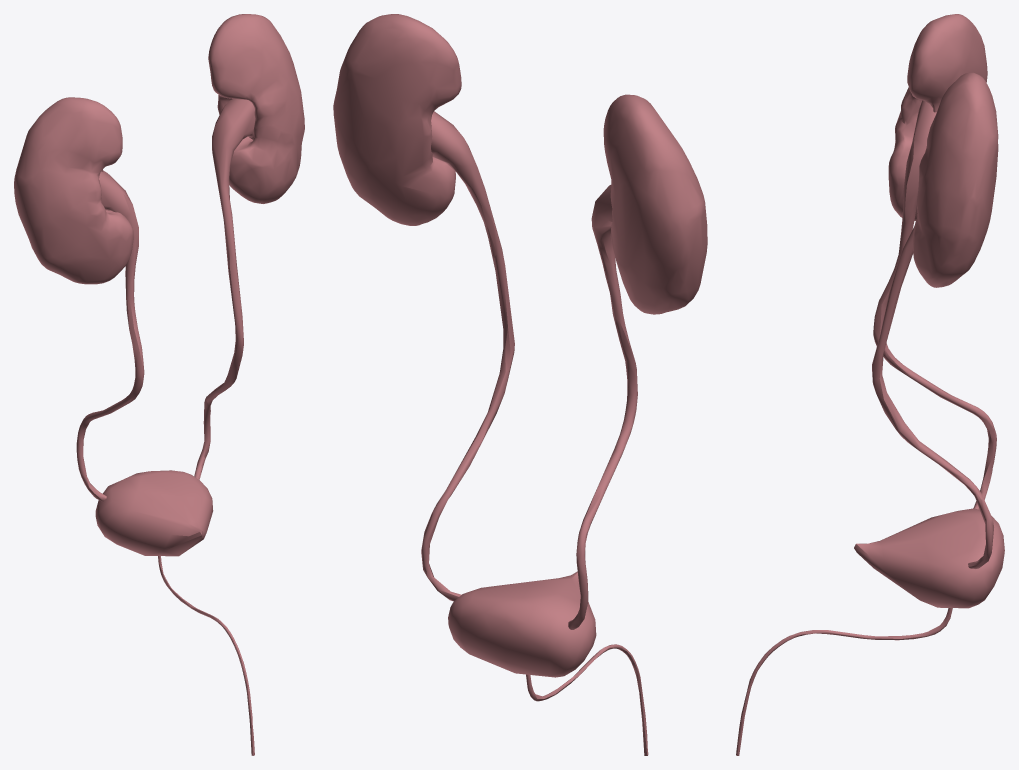
Rendered from urinary.glb.
3 views of the same model, side by side, from view 1: azimuth 30°, elevation 25°; view 2: azimuth 150°, elevation 25°; view 3: azimuth 270°, elevation 25° (orthographic). The views are drawn at different scales.
Visible parts, largest first — view 1: FMA7204, FMA7205, FMA15900, FMA15572, FMA15571, FMA19667; view 2: FMA7205, FMA7204, FMA15900, FMA15572, FMA15571, FMA19667; view 3: FMA7205, FMA15900, FMA7204, FMA15571, FMA15572, FMA19667.
Boxes of the visible parts, x1,y1,x2,y2 form: FMA7204: (14,97,133,284); FMA7205: (208,14,304,203); FMA15900: (95,470,213,556); FMA15572: (194,99,255,479); FMA15571: (76,171,144,501); FMA19667: (158,556,254,755); FMA7205: (333,14,461,225); FMA7204: (603,94,707,314); FMA15900: (448,571,596,677); FMA15572: (421,111,514,601); FMA15571: (568,185,637,629); FMA19667: (526,644,648,755); FMA7205: (913,72,998,287); FMA15900: (854,508,1004,608); FMA7204: (888,14,987,220); FMA15571: (873,100,996,509); FMA15572: (872,226,993,568); FMA19667: (736,608,952,755).
Size of the model in its own units: 0.3635 by 0.78 by 0.2607.
